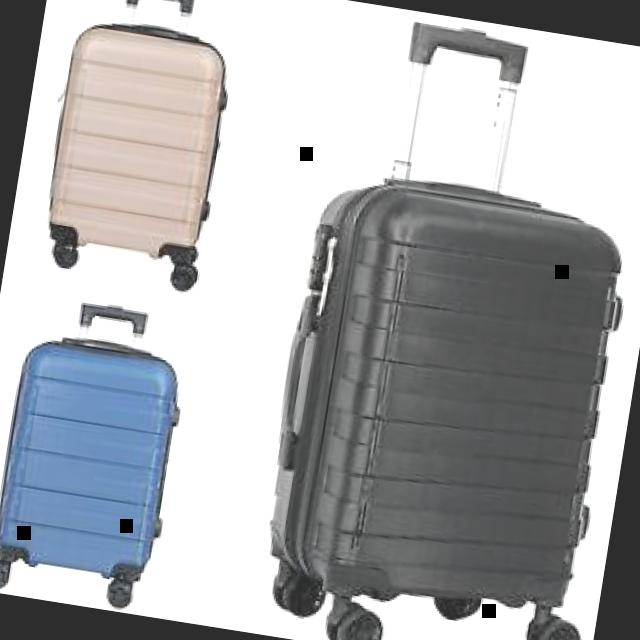luggage: (244, 149, 640, 640), (31, 3, 248, 272)
